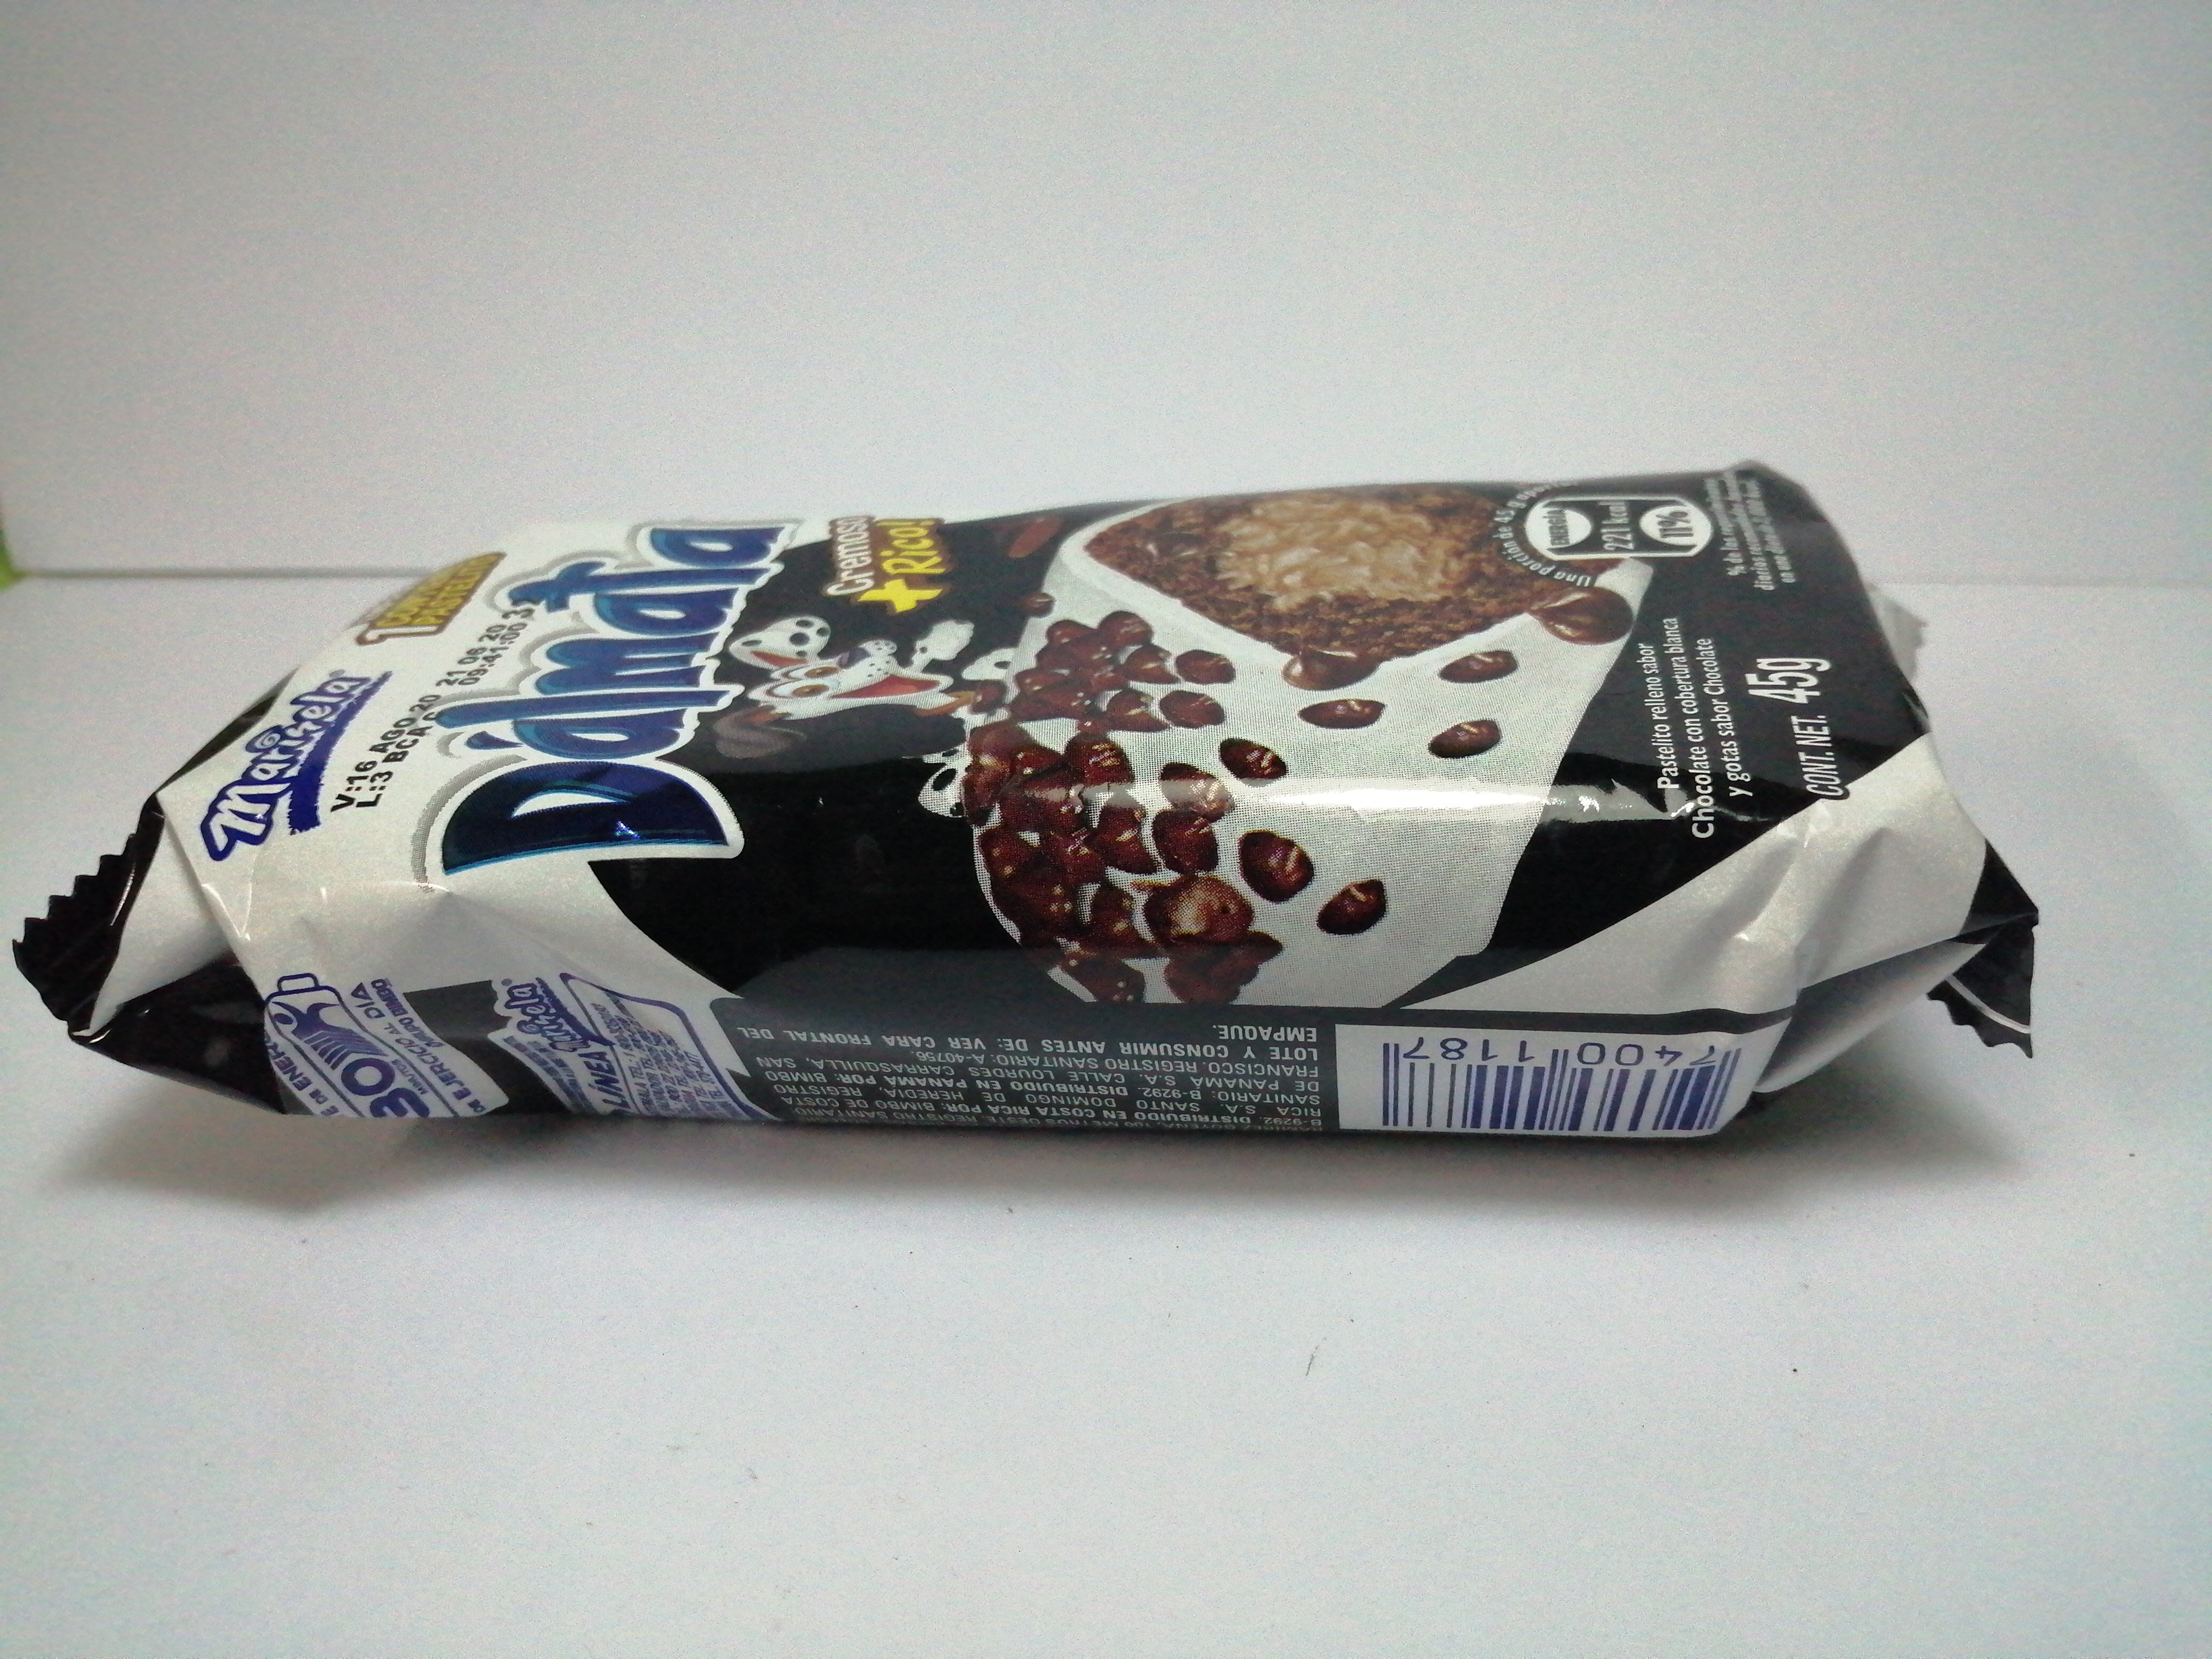dalmata: (5, 443, 2038, 1175)
